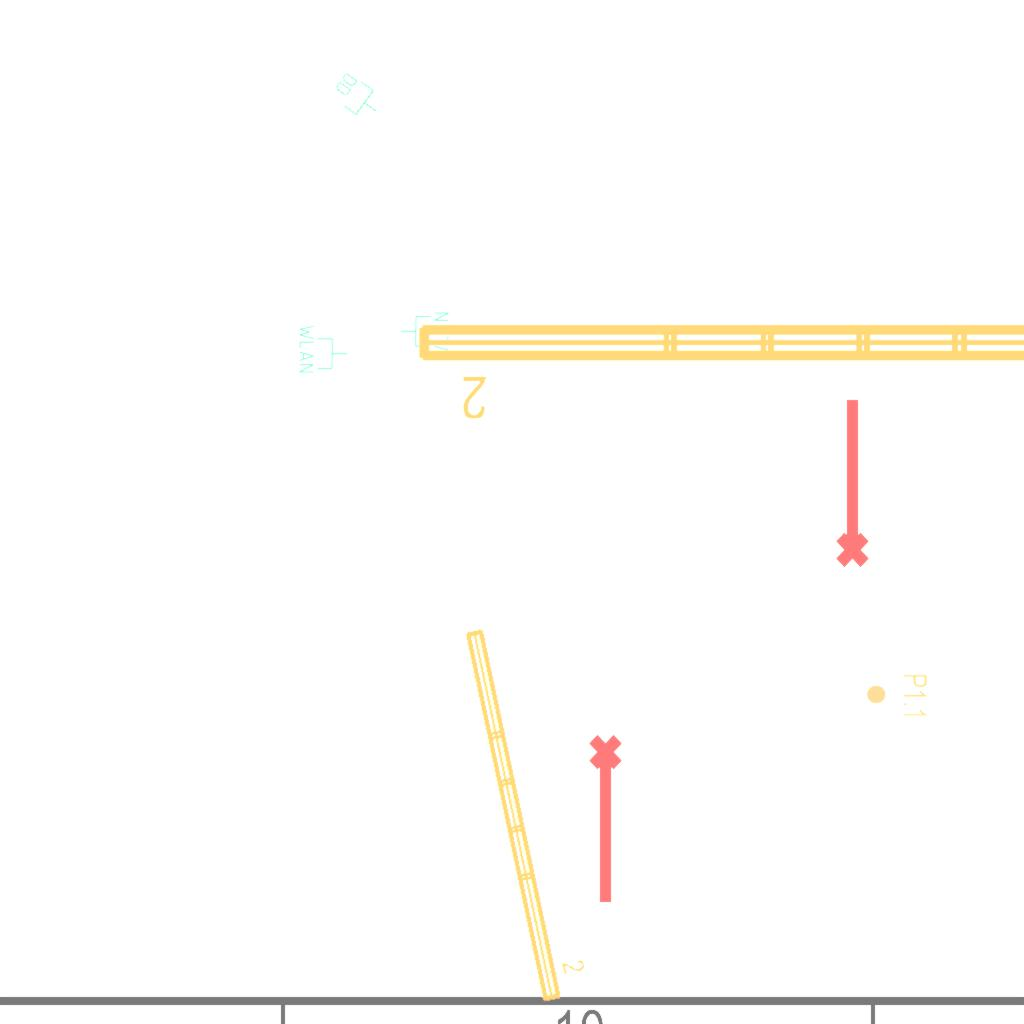ASR_Ansaugoeffnung: (585, 732, 631, 908), (827, 394, 873, 570)
Ambulanz_Pendelleuchte_LED: (410, 312, 1024, 424), (457, 616, 594, 1008)
Datenanschluss_zweifach: (326, 68, 389, 126)
Downlight_LED_Einbauleuchten_Flur: (865, 673, 929, 719)
WLAN: (399, 310, 451, 362), (297, 323, 349, 375)
